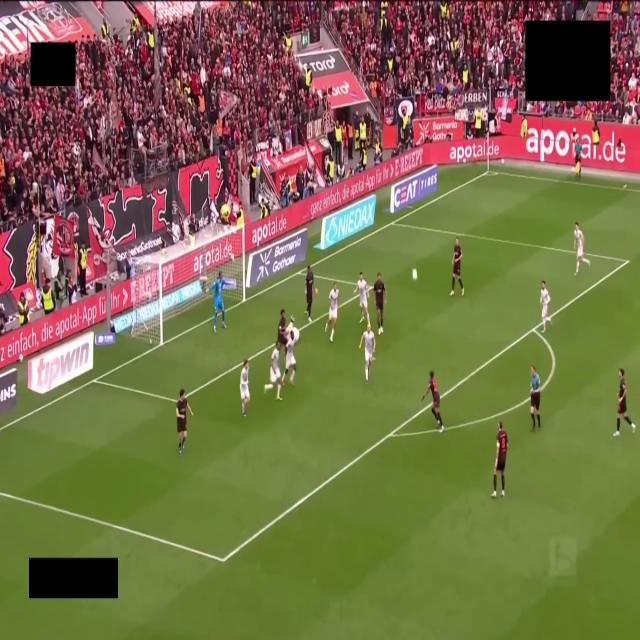ball: (412, 269, 417, 280)
player: (614, 368, 636, 437), (422, 370, 444, 432), (492, 422, 507, 497), (176, 389, 192, 453), (264, 342, 281, 399), (359, 324, 375, 383), (210, 272, 225, 332), (574, 222, 590, 274), (325, 283, 339, 342), (450, 238, 464, 296), (373, 273, 386, 335), (354, 272, 369, 324), (282, 331, 295, 385), (305, 265, 317, 322), (540, 280, 552, 333), (240, 360, 249, 416), (277, 309, 287, 346), (286, 316, 299, 343)
referee: (530, 367, 541, 429)
